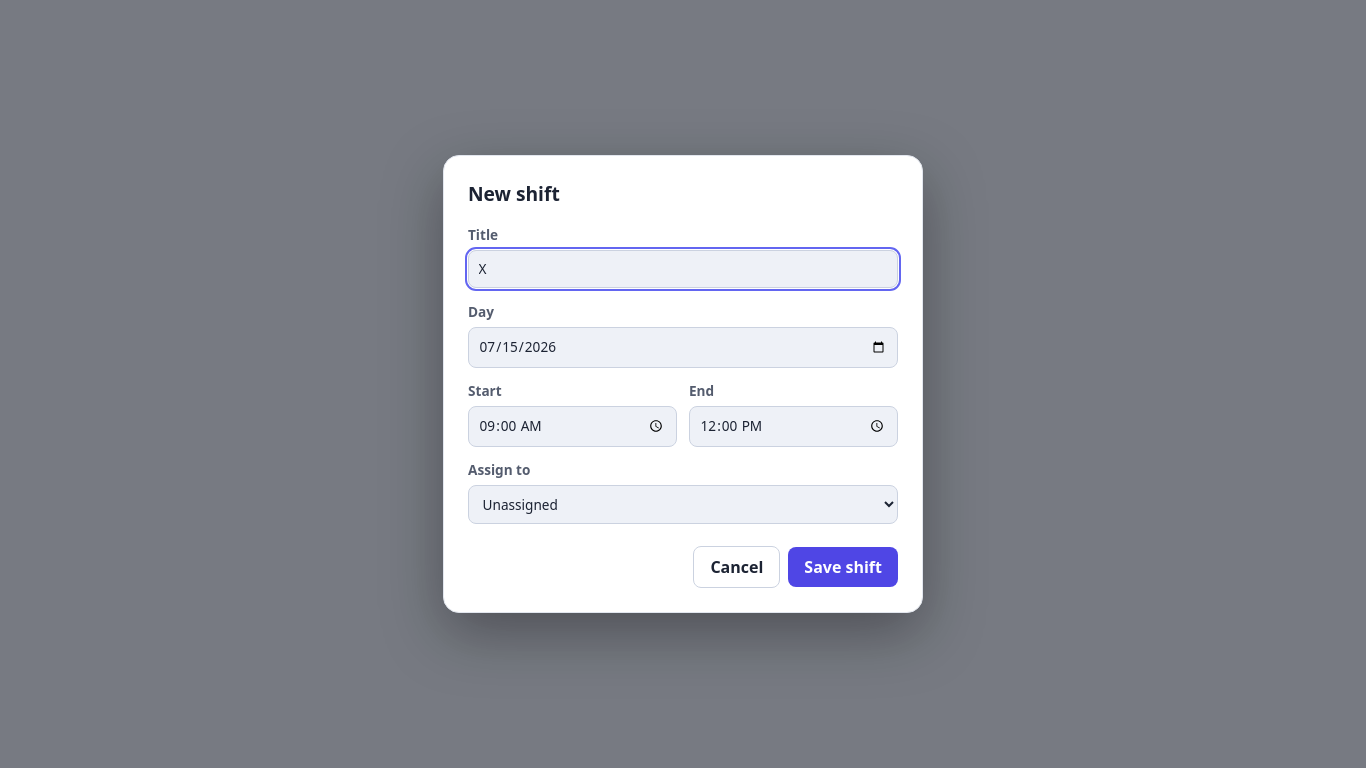
Test: ShiftDialog › blocks submission and shows an error when end is not after start
# Set end (11:00) earlier than start (9:00 default) → set end to 08:00.
Replace the text in the time field labelled "End" with "08:00" at x=794, y=426, box [689,406,898,447]
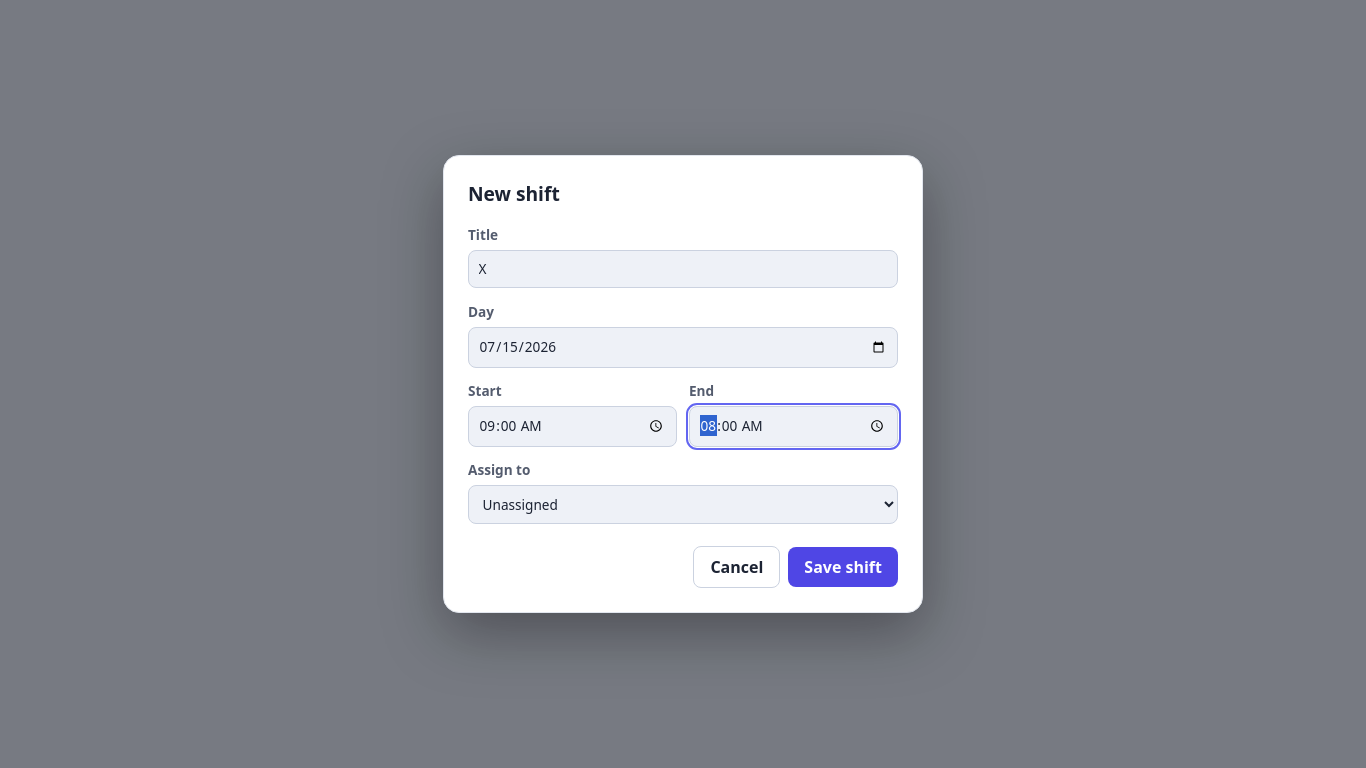
Click the button "Save shift" at x=843, y=567, box [788,547,898,587]
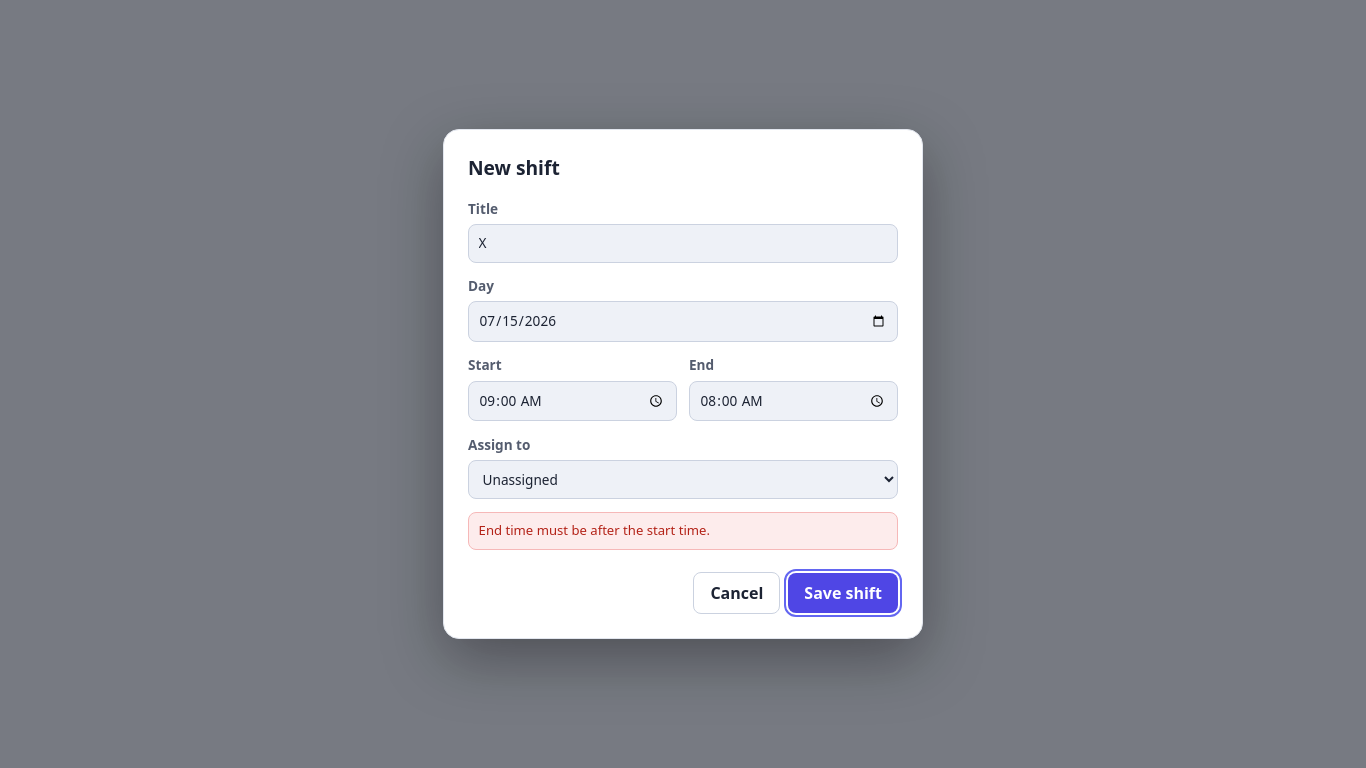
Now the message reads "End time must be after the start time.", box [479,521,710,539]
